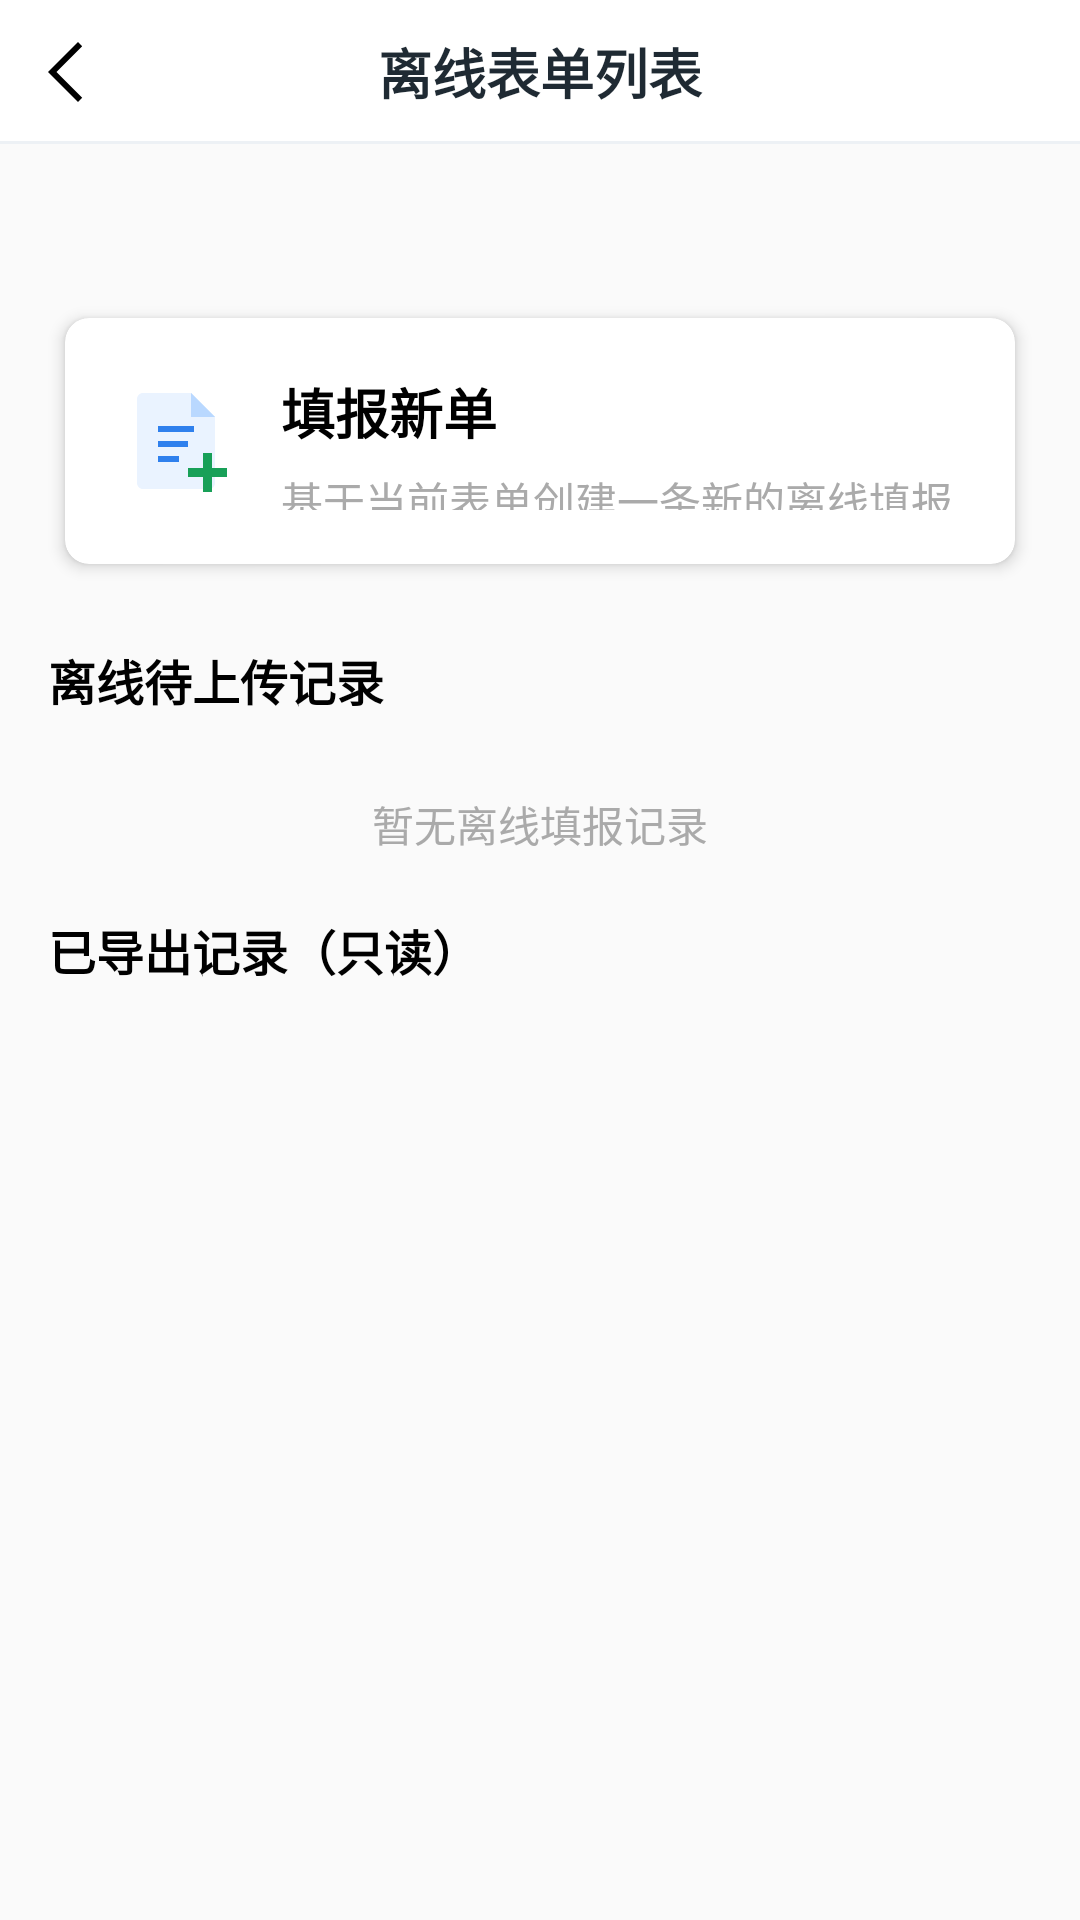

Where icons sit on this 1080w x 1920h app screen, as bbox=(x1, y1, x2, y2):
返回: bbox=(48, 42, 82, 102)
